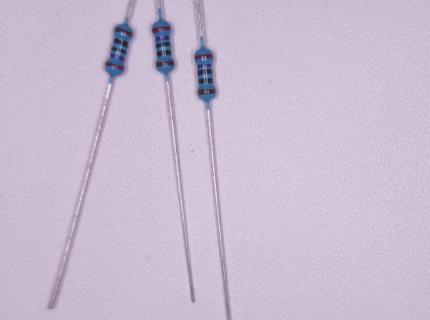Red band: (106, 62, 124, 72), (153, 27, 171, 34), (195, 54, 213, 59)
Violet band: (110, 53, 125, 63), (156, 35, 170, 41), (197, 64, 212, 68)
